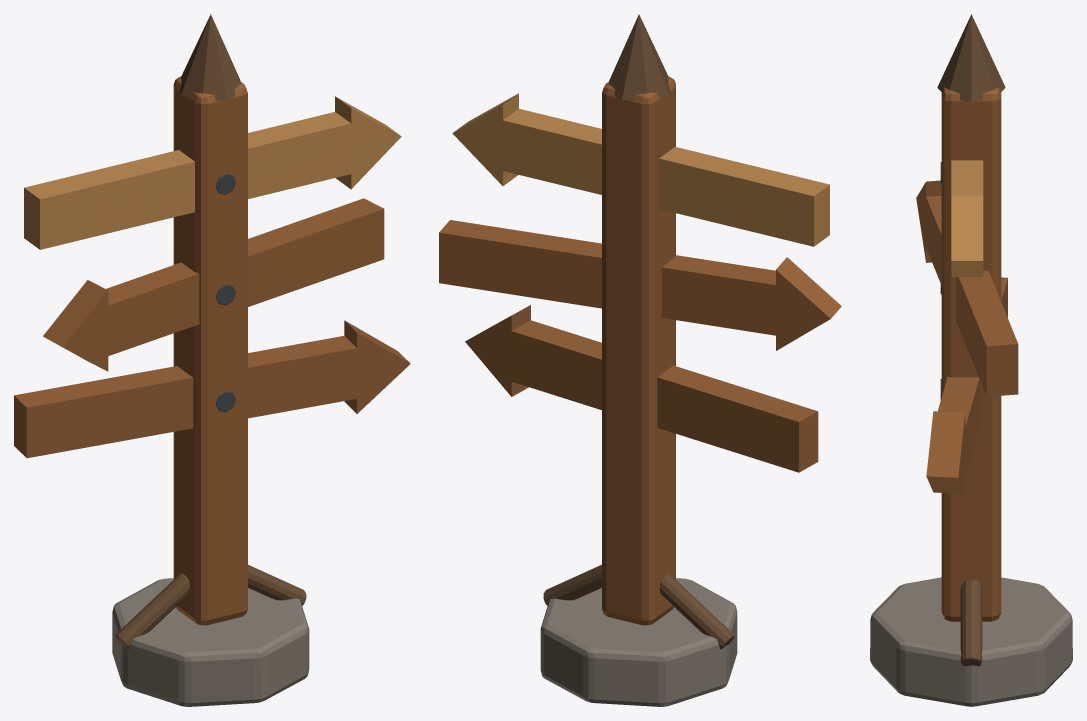
The picture shows the model from 3 angles, left to right: view 1: azimuth 30°, elevation 25°; view 2: azimuth 150°, elevation 25°; view 3: azimuth 270°, elevation 25°; orthographic projection.
Visible parts, largest first — view 1: WK_DirectionalSignpost_LOD1_Balanced; view 2: WK_DirectionalSignpost_LOD1_Balanced; view 3: WK_DirectionalSignpost_LOD1_Balanced.
Boxes of the visible parts, x1,y1,x2,y2 form: WK_DirectionalSignpost_LOD1_Balanced: (14, 14, 410, 706); WK_DirectionalSignpost_LOD1_Balanced: (439, 14, 841, 706); WK_DirectionalSignpost_LOD1_Balanced: (870, 14, 1072, 706).
Bounding box in the file's own units: 1.96 × 3.37 × 0.9493.
